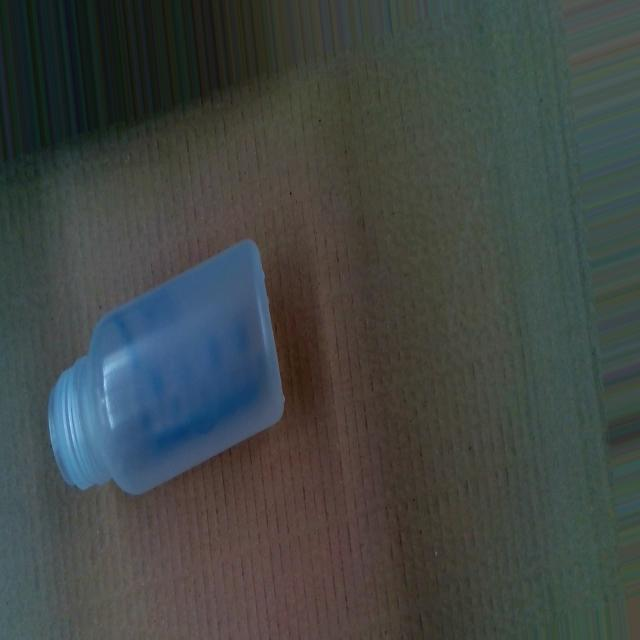bottle: (44, 232, 290, 501)
